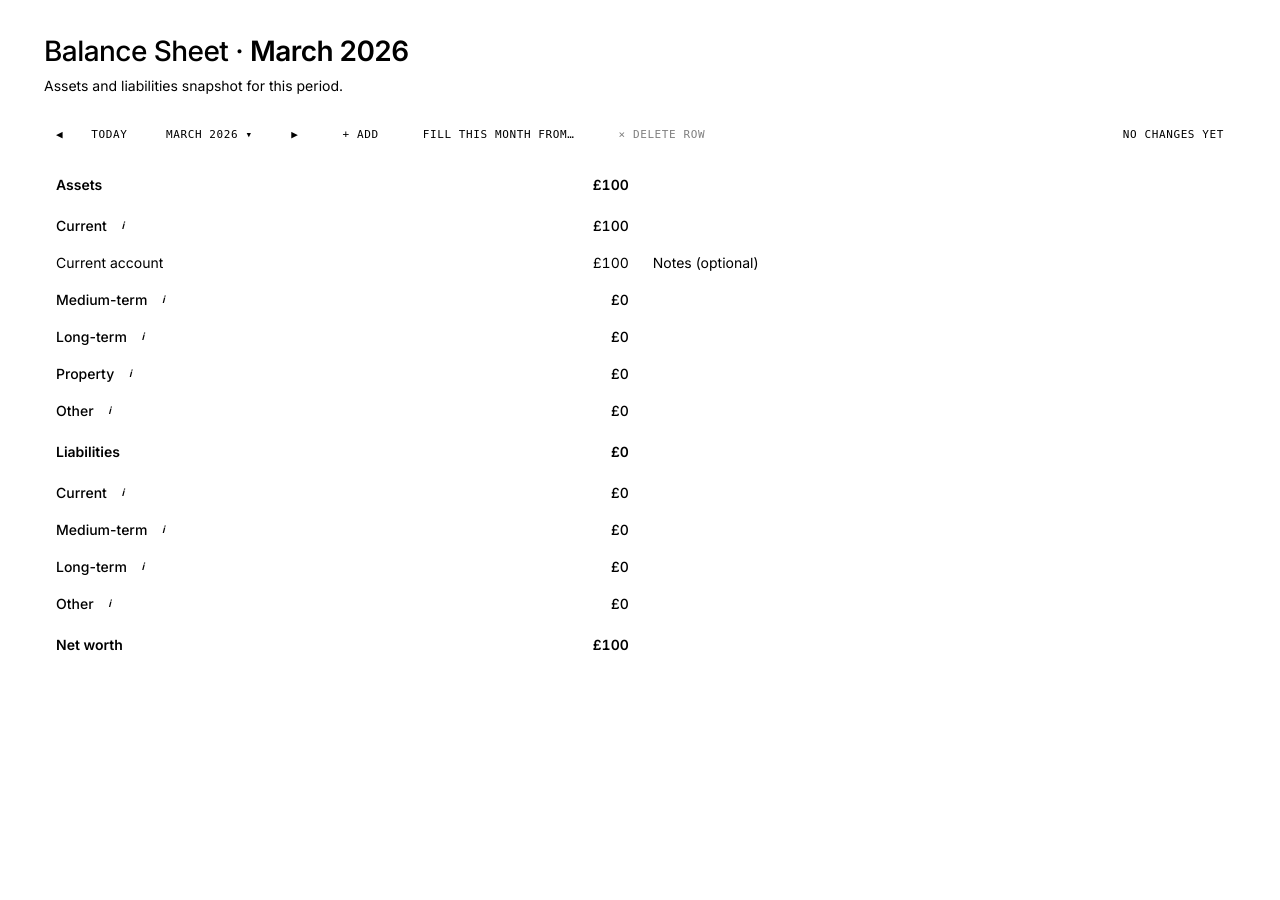
Test: BalanceSheet — the row's card owns type and section now › a refusal is shown in the card, verbatim
Click the button "Current account" at (110, 262), box [56,252,429,273]
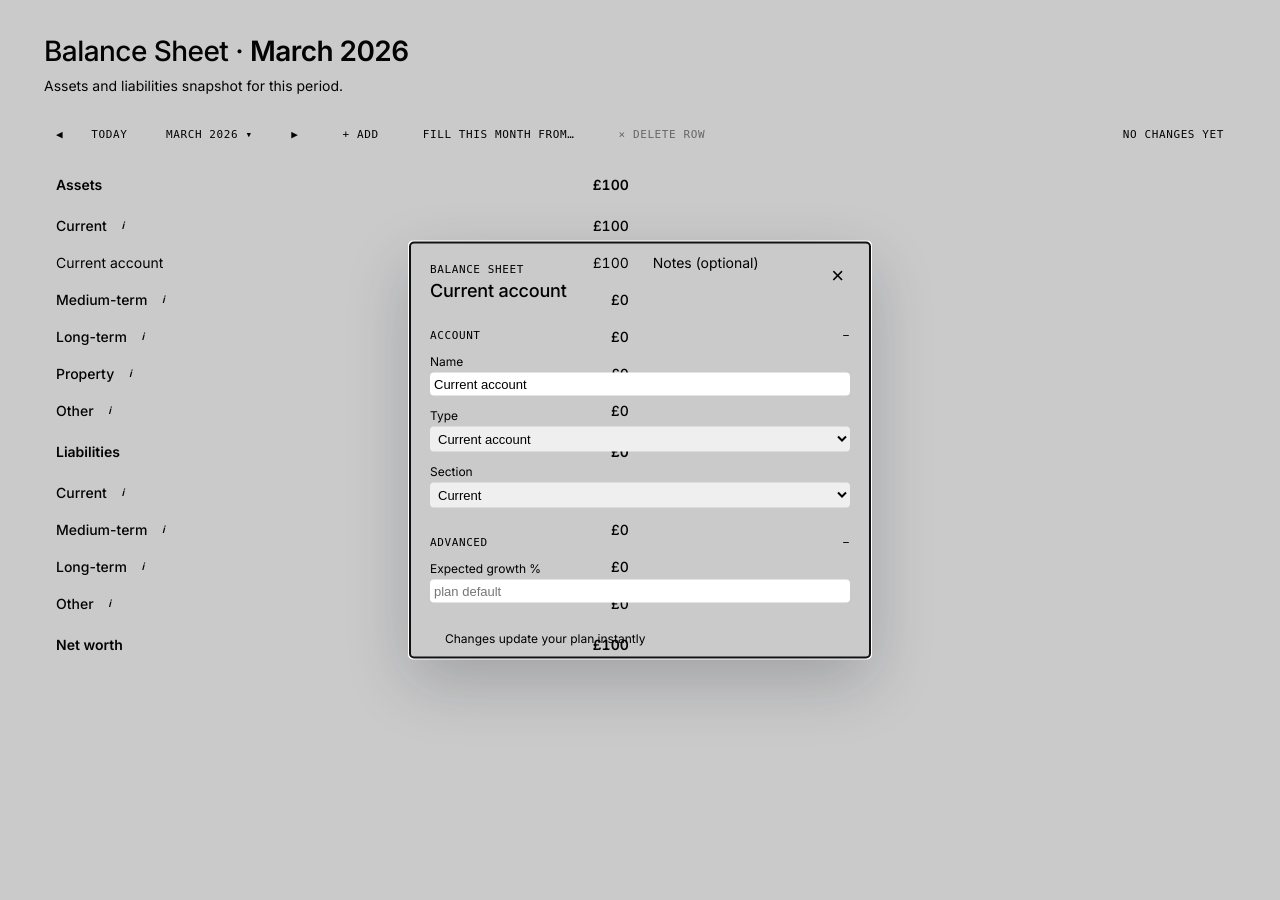
Select "Savings / cash" in the dropdown labelled "Type" at (640, 439), box [430,426,850,452]
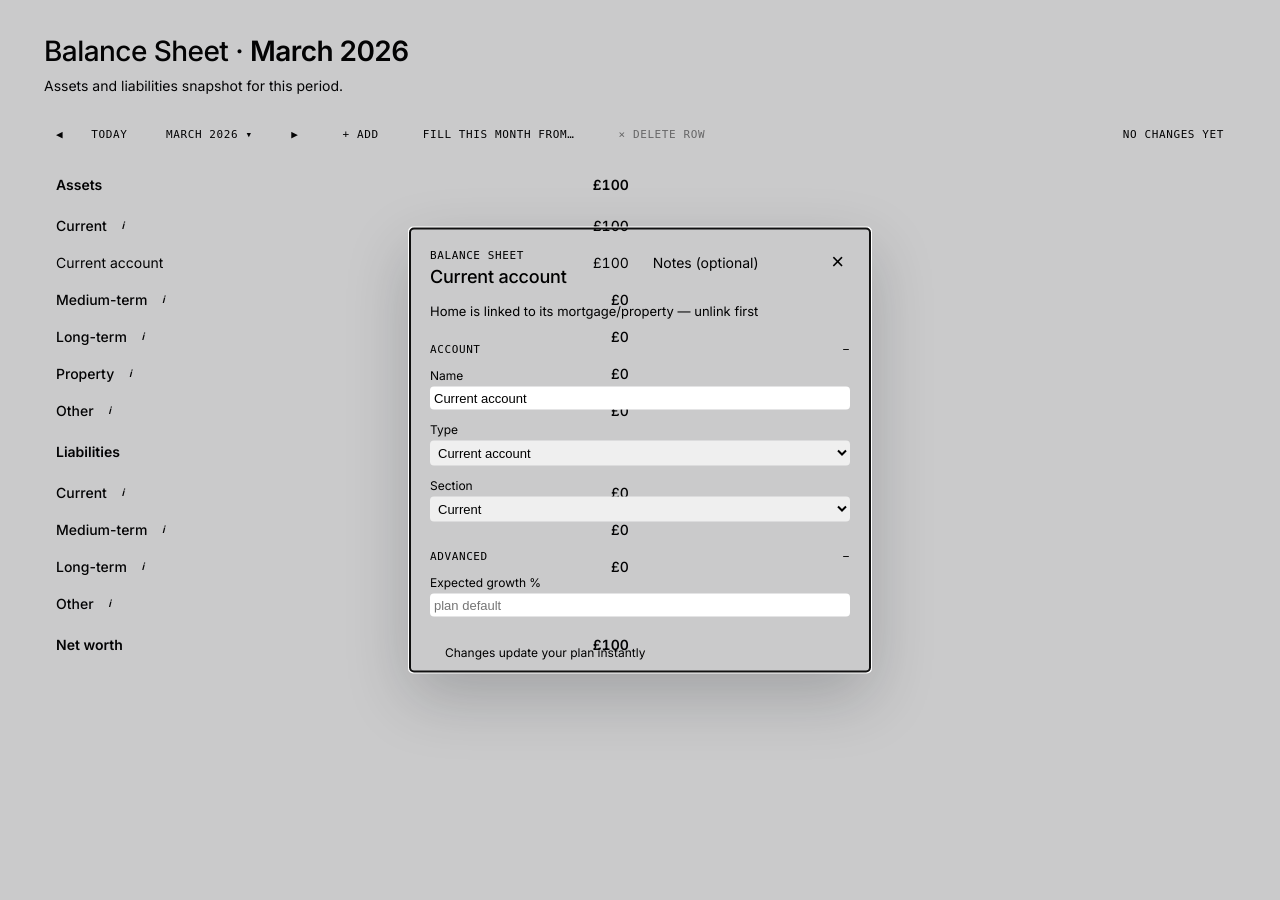
Expected: the text "Home is linked to its mortgage/property — unlink first" is shown, [430,302,758,318]
